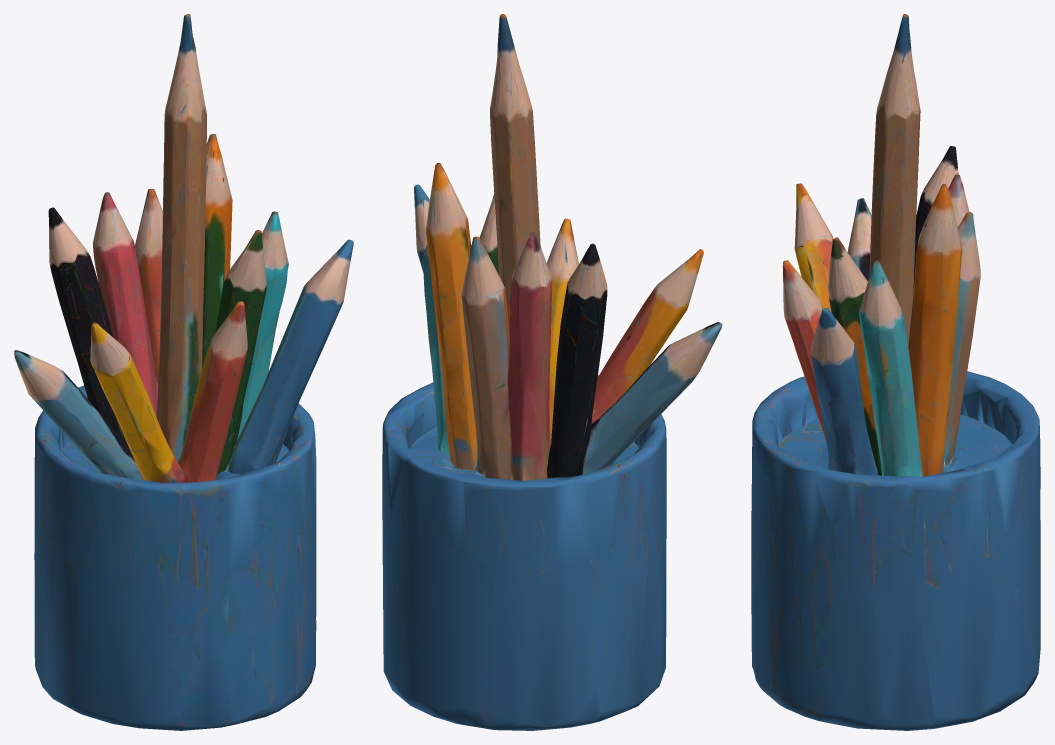
Rendered from pot.glb.
3 views of the same model, side by side, from view 1: azimuth 30°, elevation 25°; view 2: azimuth 150°, elevation 25°; view 3: azimuth 270°, elevation 25° (orthographic). The views are drawn at different scales.
Size of the model in its own units: 0.9784 by 1.9 by 0.7457.
1 material, 1 textured.
